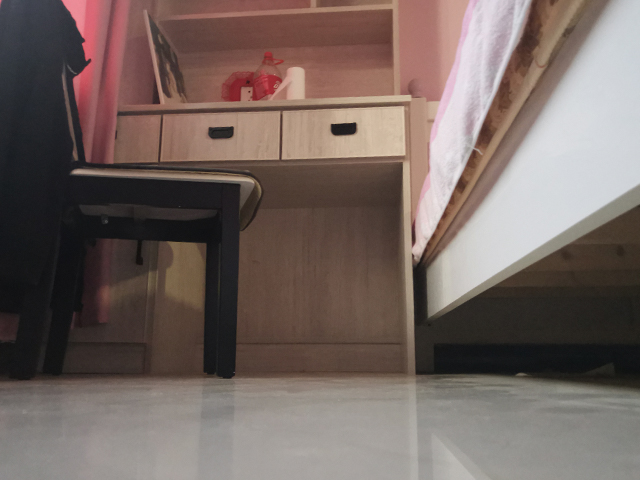bed: (408, 1, 640, 377)
stool: (1, 1, 265, 382)
table: (122, 98, 419, 379)
